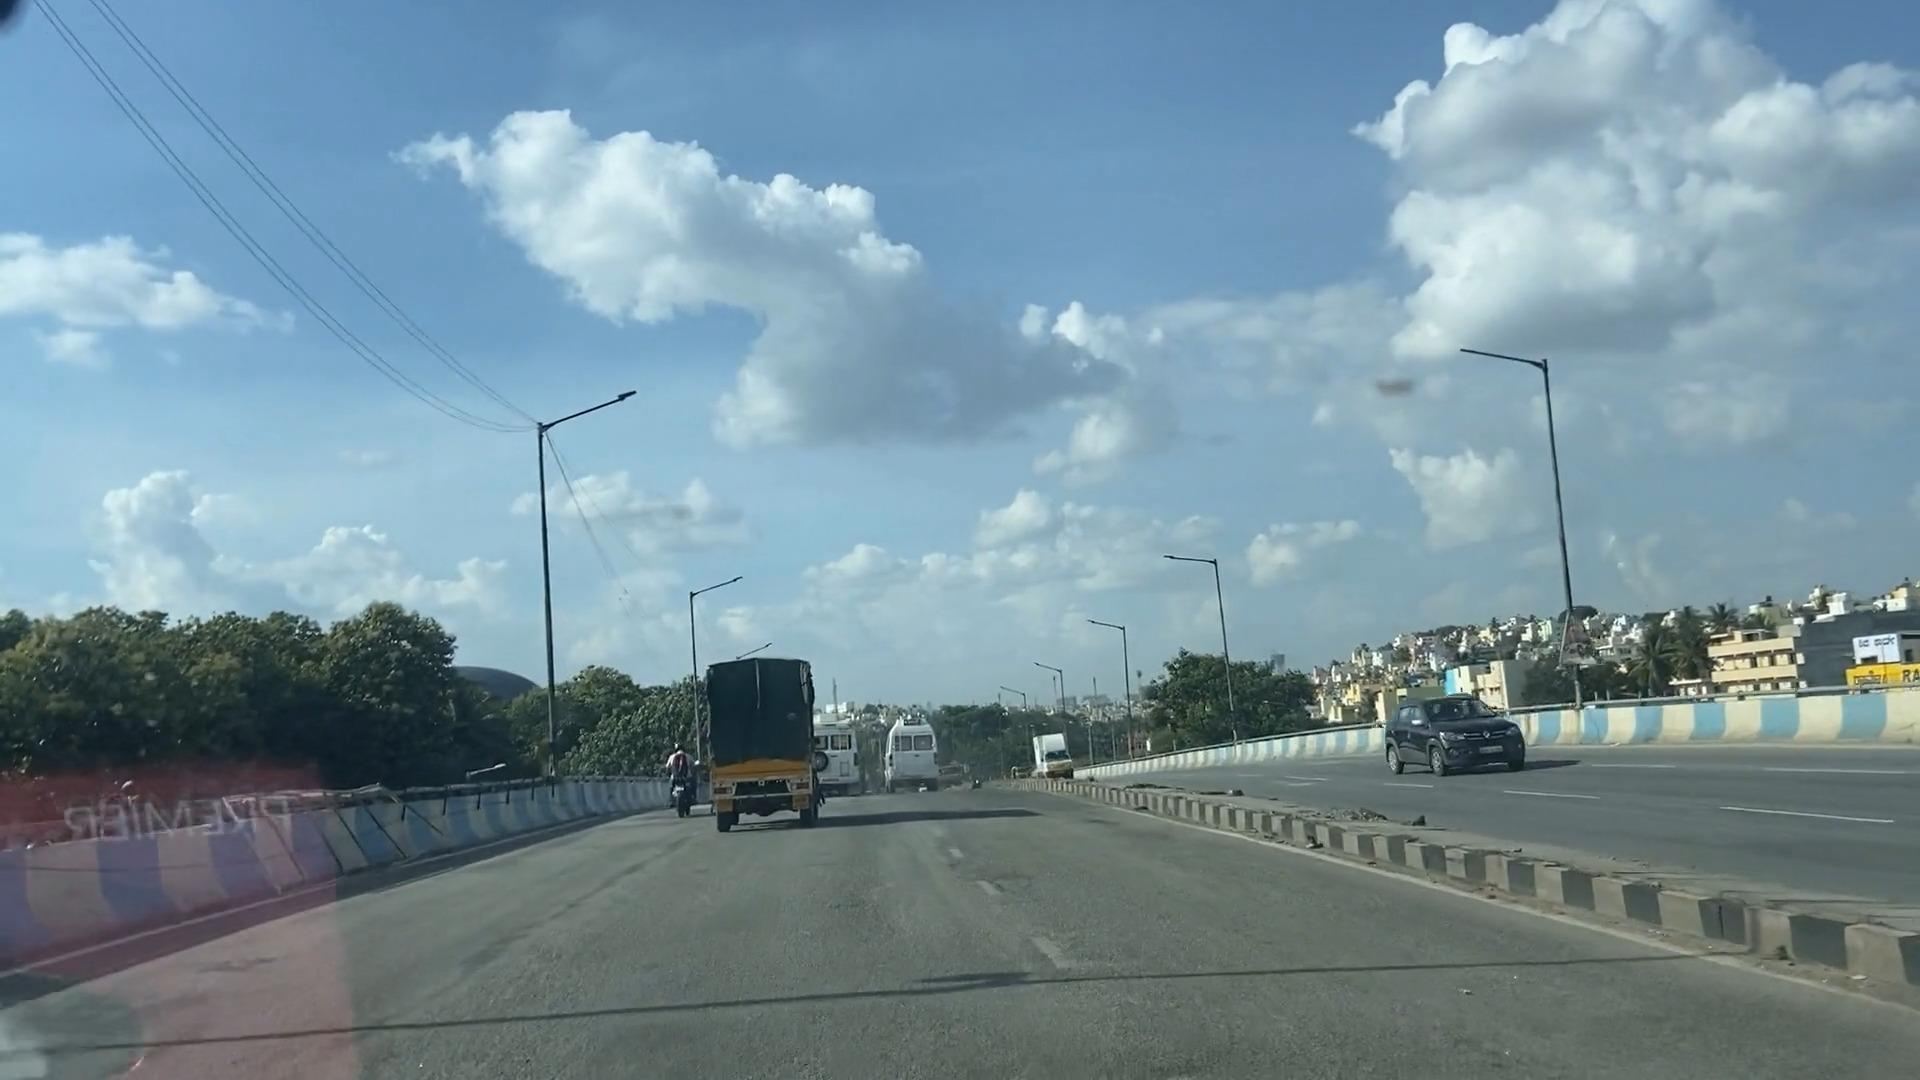HMV: (692, 646, 833, 832), (660, 740, 700, 819)
RoadDamages: (948, 908, 1235, 1080)
